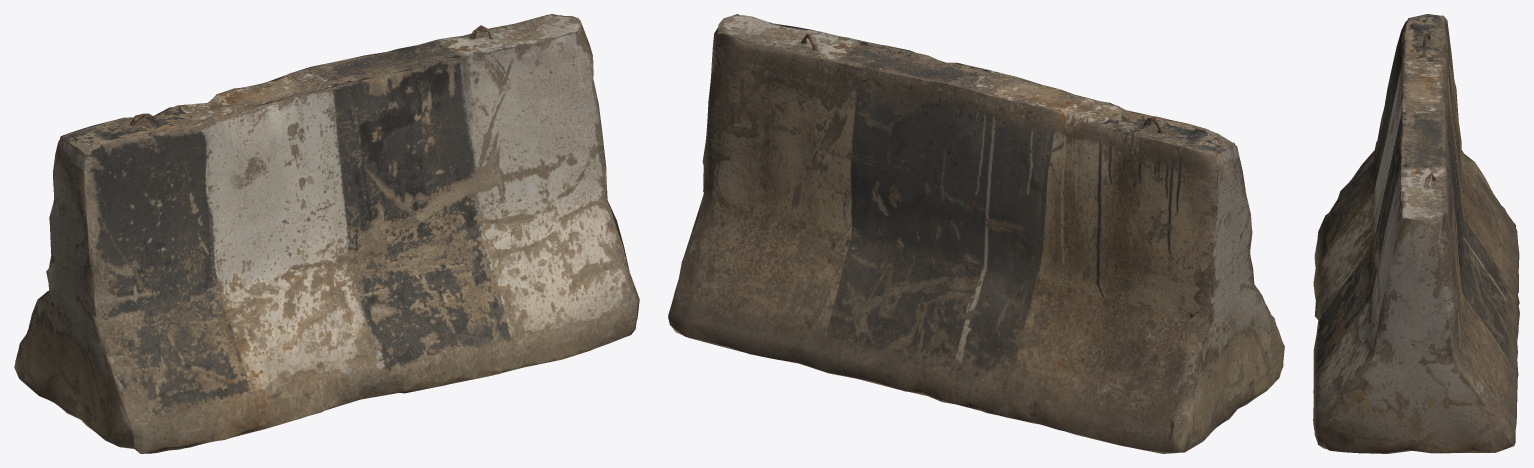
Rendered from road_barrier.glb.
The picture shows the model from 3 angles, left to right: view 1: azimuth 30°, elevation 25°; view 2: azimuth 150°, elevation 25°; view 3: azimuth 270°, elevation 25°; orthographic projection. The views are drawn at different scales.
Visible parts, largest first — view 1: road_barrier; view 2: road_barrier; view 3: road_barrier.
Part boxes in pixels (x1,y1,x2,y2): road_barrier: (14,14,639,453); road_barrier: (668,14,1284,453); road_barrier: (1313,14,1519,453).
Size of the model in its own units: 1.54 by 0.8342 by 0.6344.
Materials: 1 (1 with a texture image).
